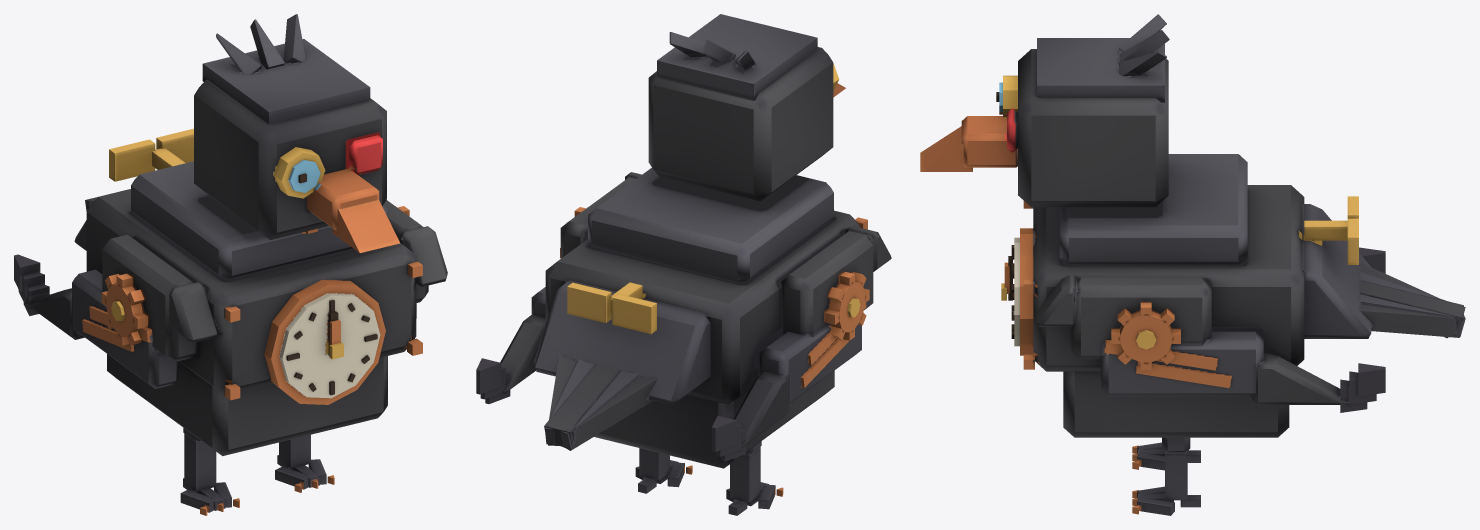
File: CorbeauHorloge_Rig.fbx
The picture shows the model from 3 angles, left to right: view 1: azimuth 30°, elevation 25°; view 2: azimuth 150°, elevation 25°; view 3: azimuth 270°, elevation 25°; orthographic projection. The views are drawn at different scales.
Visible parts, largest first — view 1: Body, Head, WingR, Key, LegR, WingL, Gear1, LegL; view 2: Body, Head, WingR, Tail, WingL, Key, LegR, Gear1, LegL; view 3: Body, Head, WingL, Tail, Gear0, LegL, Key, LegR.
Part boxes in pixels (bbox=[...]): Body: bbox=[74, 161, 422, 456]; Head: bbox=[194, 14, 399, 252]; WingR: bbox=[14, 234, 217, 388]; Key: bbox=[109, 128, 193, 181]; LegR: bbox=[180, 428, 239, 515]; WingL: bbox=[383, 200, 447, 318]; Gear1: bbox=[101, 273, 147, 345]; LegL: bbox=[275, 434, 334, 492]; Body: bbox=[534, 168, 867, 468]; Head: bbox=[648, 14, 845, 201]; WingR: bbox=[712, 225, 891, 461]; Tail: bbox=[544, 354, 658, 450]; WingL: bbox=[476, 172, 641, 403]; Key: bbox=[567, 282, 656, 334]; LegR: bbox=[726, 441, 783, 515]; Gear1: bbox=[825, 271, 869, 340]; LegL: bbox=[635, 448, 692, 493]; Body: bbox=[1001, 154, 1371, 437]; Head: bbox=[920, 14, 1169, 207]; WingL: bbox=[1036, 275, 1385, 412]; Tail: bbox=[1359, 262, 1465, 338]; Gear0: bbox=[1111, 302, 1180, 370]; LegL: bbox=[1132, 437, 1200, 515]; Key: bbox=[1304, 196, 1358, 264]; LegR: bbox=[1132, 442, 1200, 470].
Bounding box in the file's own units: 3.92 × 6 × 6.54.
Materials: 1 (1 with a texture image).
